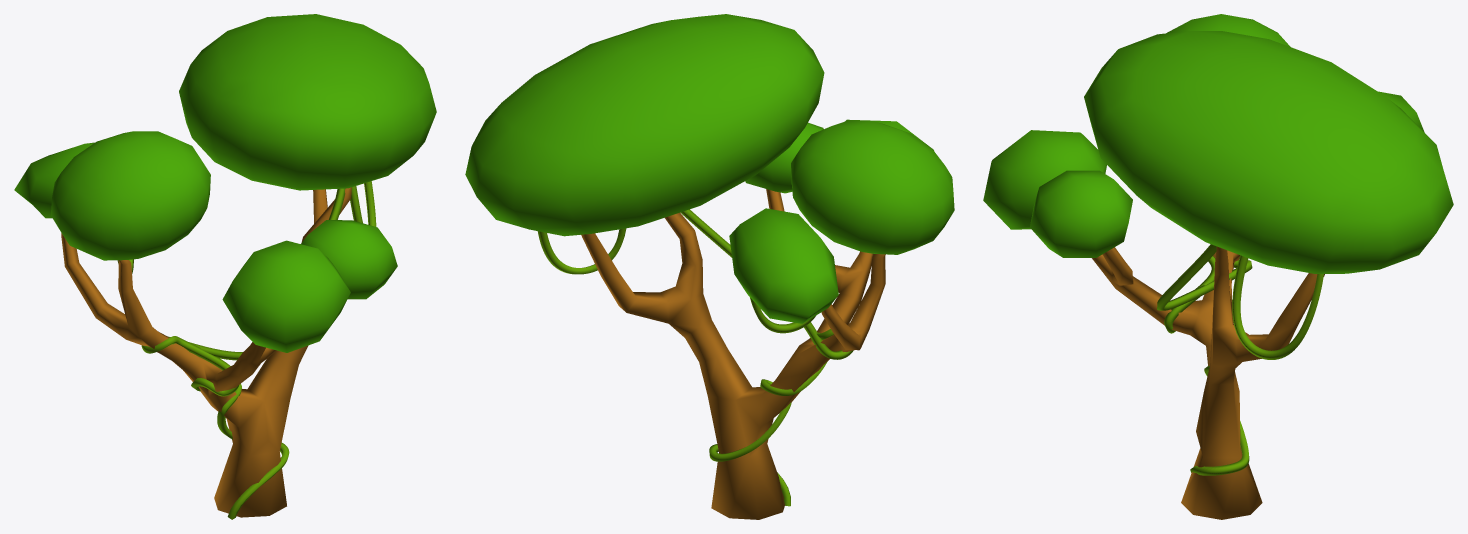
File: Jungle Tree with liana.fbx
The picture shows the model from 3 angles, left to right: view 1: azimuth 30°, elevation 25°; view 2: azimuth 150°, elevation 25°; view 3: azimuth 270°, elevation 25°; orthographic projection. The views are drawn at different scales.
Visible parts, largest first — view 1: Tree.014; view 2: Tree.014; view 3: Tree.014.
Boxes of the visible parts, <box> form: Tree.014: <box>14,14,436,519</box>; Tree.014: <box>465,14,954,519</box>; Tree.014: <box>983,14,1453,519</box>.
Bounding box in the file's own units: 639 × 686 × 608.
